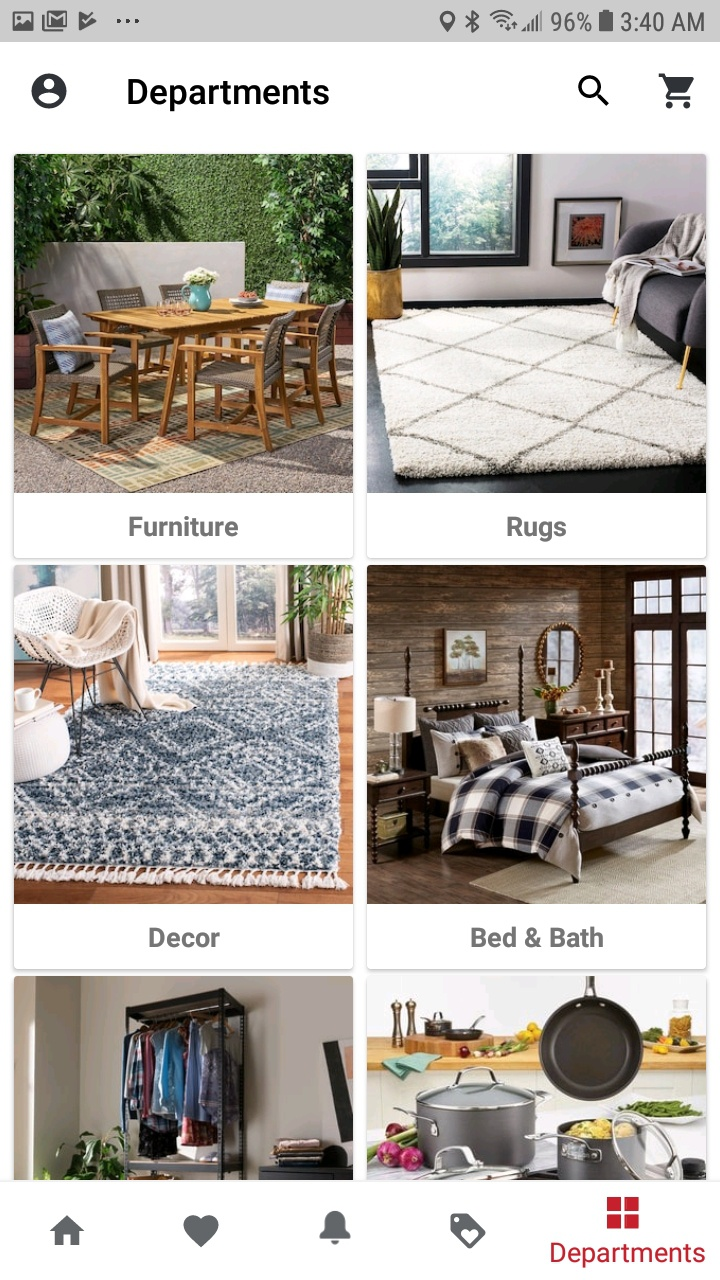Icon: (450, 1212, 487, 1249), (658, 73, 695, 110), (32, 73, 68, 110), (183, 1215, 220, 1248), (319, 1210, 352, 1245), (50, 1215, 86, 1246), (607, 1197, 640, 1230), (578, 76, 610, 108)
Image: (14, 154, 354, 494), (367, 154, 707, 494), (14, 565, 354, 904), (367, 565, 707, 904), (367, 975, 707, 1180), (14, 976, 354, 1180)
Text: (128, 81, 330, 113), (551, 1241, 706, 1268), (470, 926, 604, 949), (129, 516, 239, 538), (507, 516, 567, 543), (149, 927, 221, 949)
UpperTaskBar: (1, 1, 720, 43)
